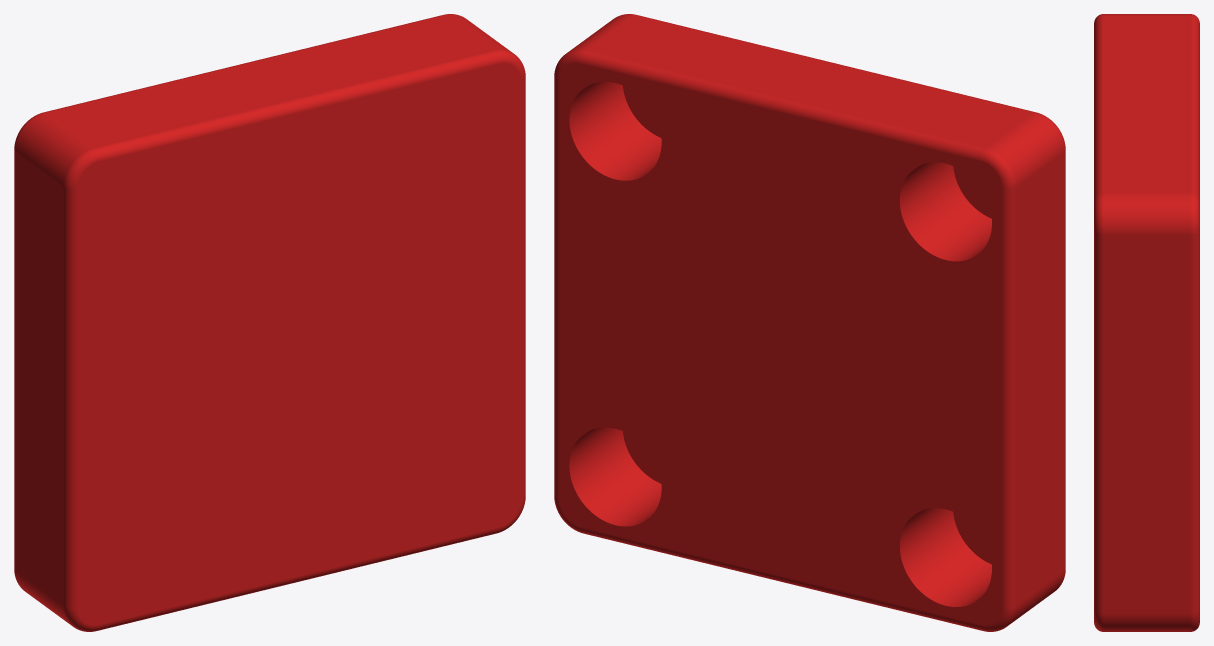
The model's file is 2_colored.obj.
3 renders of one model, left to right at view 1: azimuth 30°, elevation 25°; view 2: azimuth 150°, elevation 25°; view 3: azimuth 270°, elevation 25°, orthographic. The views are drawn at different scales.
Bounding box in the file's own units: 0.075 × 0.075 × 0.0165.
